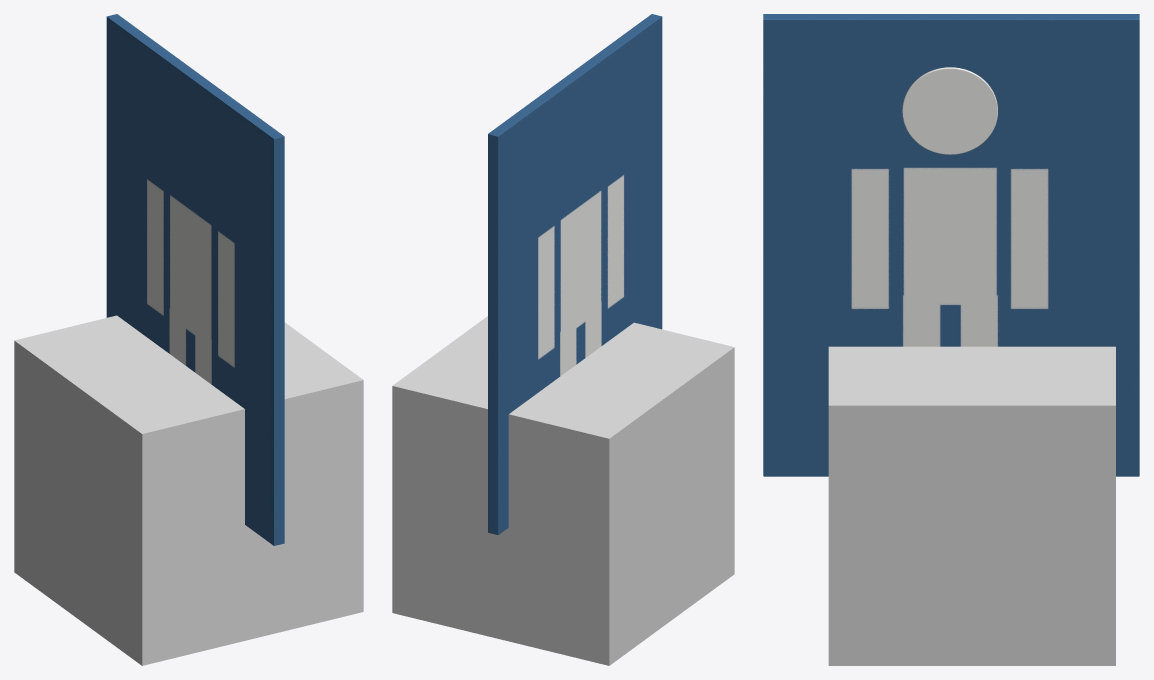
Rendered from men_bathroom_sign.glb.
3 views of the same model, side by side, from view 1: azimuth 30°, elevation 25°; view 2: azimuth 150°, elevation 25°; view 3: azimuth 270°, elevation 25° (orthographic). The views are drawn at different scales.
Visible parts, largest first — view 1: Cube, Object_2; view 2: Cube, Object_2; view 3: Object_2, Cube.
Part boxes in pixels (x1=…): Cube: x1=14, y1=315, x2=363, y2=665; Object_2: x1=106, y1=14, x2=284, y2=545; Cube: x1=392, y1=316, x2=734, y2=665; Object_2: x1=488, y1=14, x2=662, y2=534; Object_2: x1=763, y1=14, x2=1139, y2=476; Cube: x1=828, y1=346, x2=1115, y2=665.
Bounding box in the file's own units: 2 × 4.51 × 2.62.
Materials: 2 (1 with a texture image).
